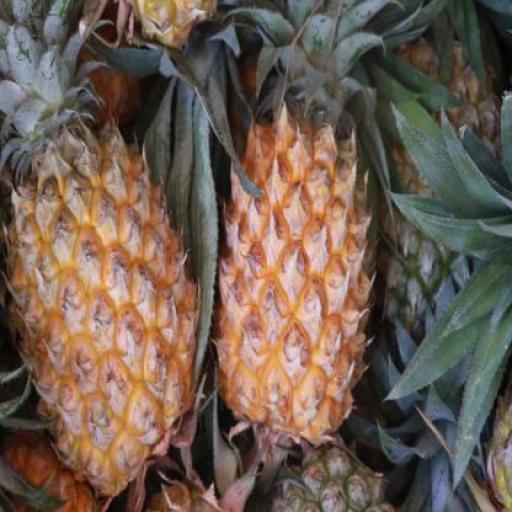Pineapple - v8 v1: (6, 121, 197, 503), (216, 110, 372, 452)
